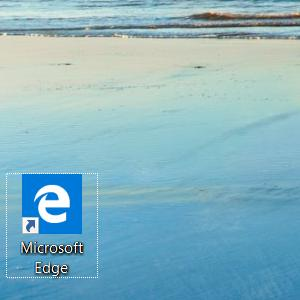edge: (22, 174, 82, 234)
